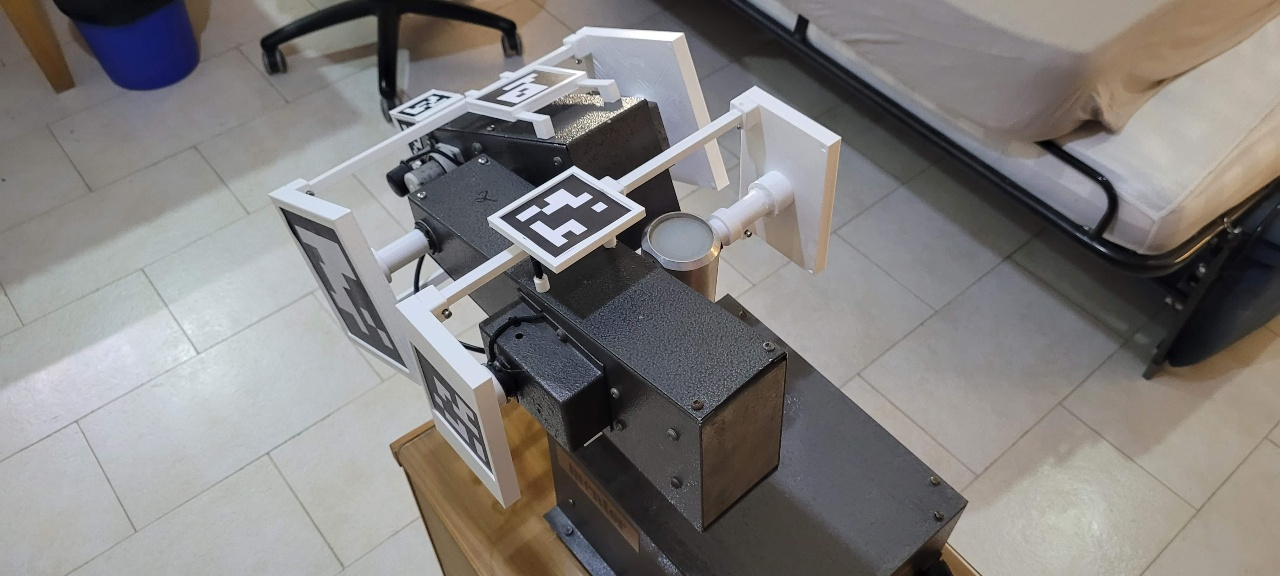Robot: (262, 49, 822, 576)
